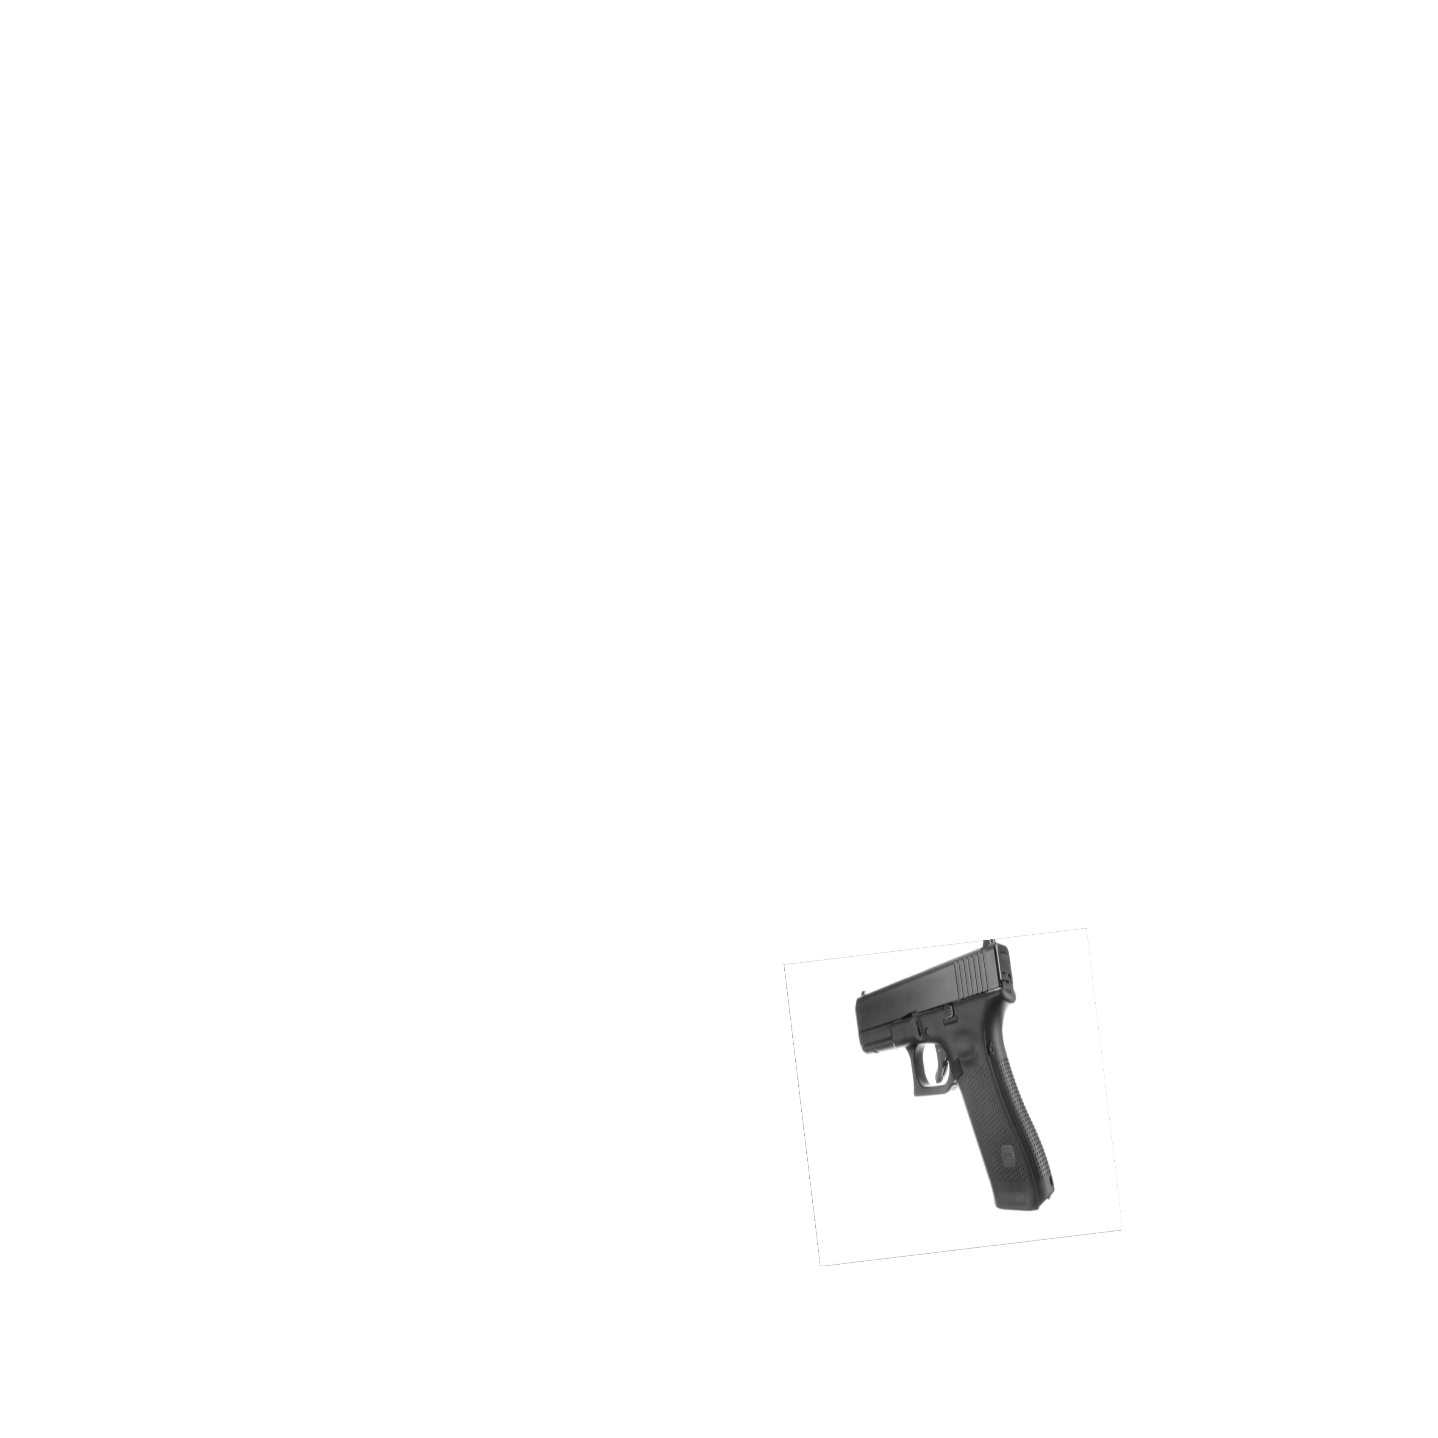gun: (855, 942, 1055, 1215)
